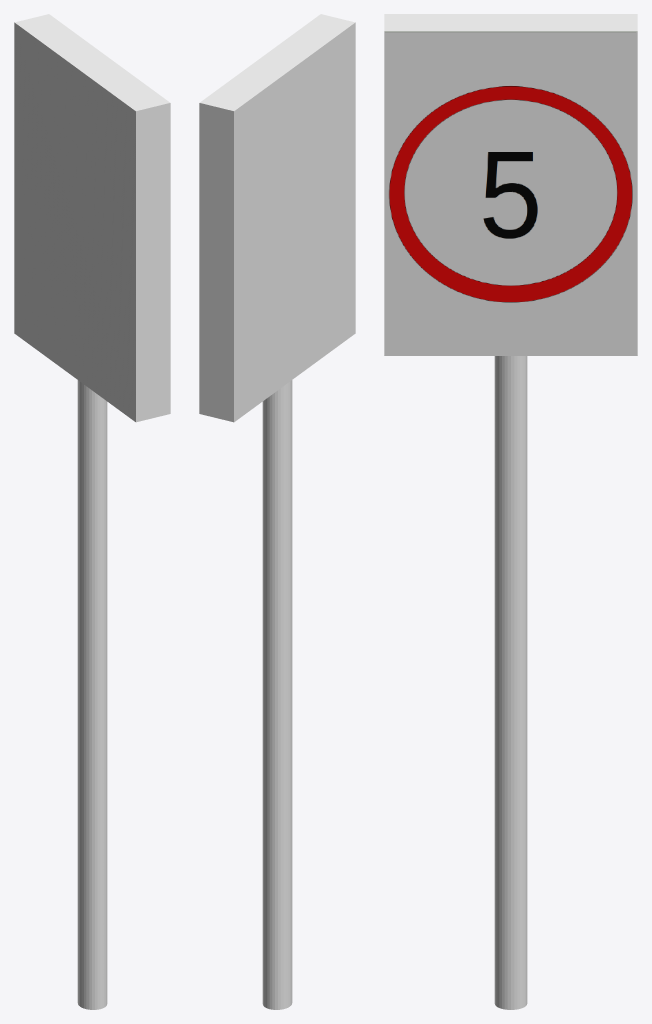
The model's file is sign5.dae.
3 views of the same model, side by side, from view 1: azimuth 30°, elevation 25°; view 2: azimuth 150°, elevation 25°; view 3: azimuth 270°, elevation 25° (orthographic). The views are drawn at different scales.
Parts seen in each view (by area): view 1: Cube; view 2: Cube; view 3: Cube.
Part boxes in pixels (<box>): Cube: <box>14,14,170,1009</box>; Cube: <box>199,14,355,1009</box>; Cube: <box>384,14,637,1009</box>.
Size of the model in its own units: 0.0692 by 0.42 by 1.8.
